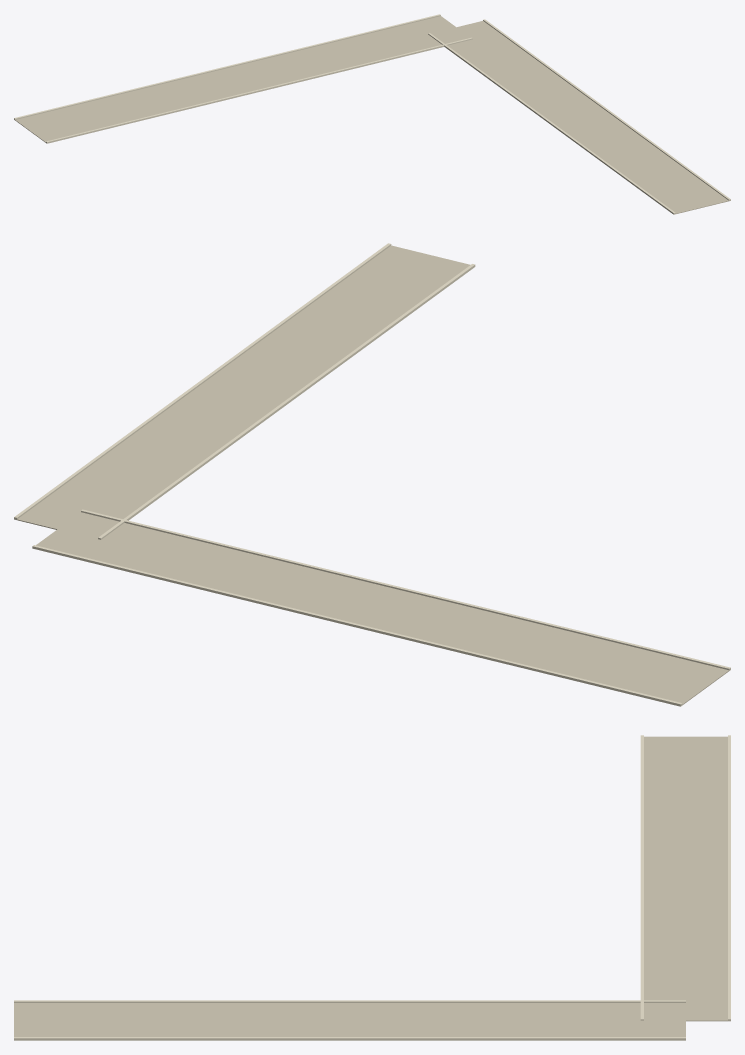
The model's file is gardens-6-1.glb.
3 views of the same model, one above another, from view 1: azimuth 30°, elevation 25°; view 2: azimuth 150°, elevation 25°; view 3: azimuth 270°, elevation 25° (orthographic). The views are drawn at different scales.
Visible parts, largest first — view 1: gardens-6-1; view 2: gardens-6-1; view 3: gardens-6-1.
Boxes of the visible parts, x1,y1,x2,y2 form: gardens-6-1: [14, 14, 730, 214]; gardens-6-1: [14, 243, 730, 706]; gardens-6-1: [14, 735, 730, 1040].
Size of the model in its own units: 137 by 0.44 by 137.
